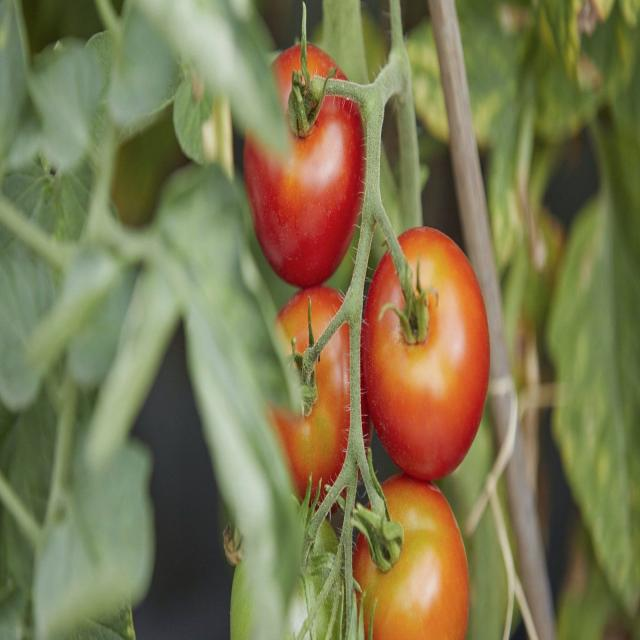level 2: (228, 499, 350, 640)
level 5: (254, 283, 370, 519), (348, 475, 470, 640)
level 6: (363, 226, 490, 484), (246, 38, 367, 290)
